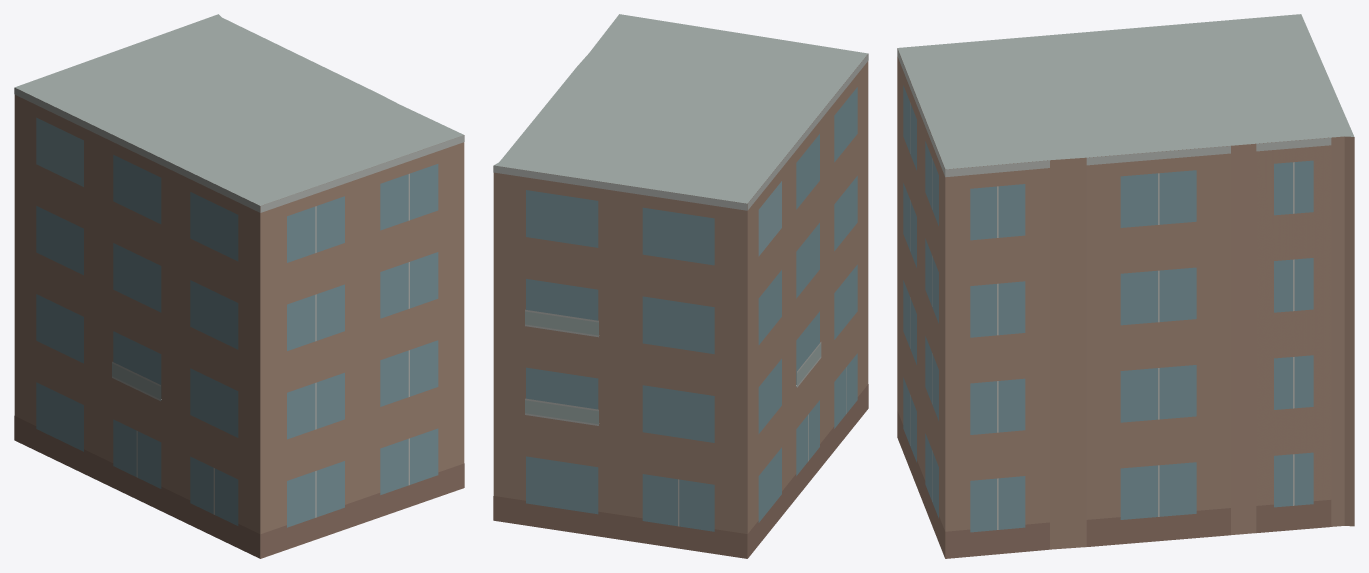
Rendered from survey-upis-32705670.glb.
3 views of the same model, side by side, from view 1: azimuth 30°, elevation 25°; view 2: azimuth 150°, elevation 25°; view 3: azimuth 270°, elevation 25° (orthographic). The views are drawn at different scales.
Visible parts, largest first — view 1: survey-upis-32705670.tmp; view 2: survey-upis-32705670.tmp; view 3: survey-upis-32705670.tmp.
Boxes of the visible parts, left/top/right/bottom form: survey-upis-32705670.tmp: left=14, top=14, right=464, bottom=558; survey-upis-32705670.tmp: left=493, top=14, right=868, bottom=558; survey-upis-32705670.tmp: left=897, top=14, right=1354, bottom=558.
Bounding box in the file's own units: 10.45 × 12.2 × 12.99.
